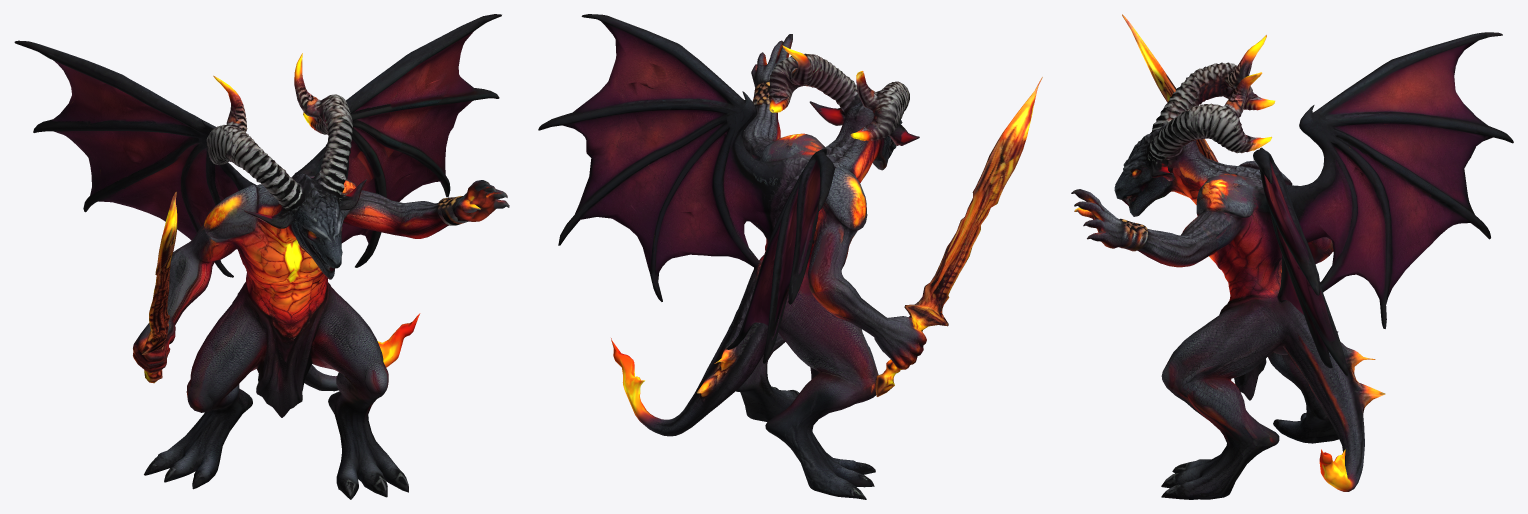
File: molgroth.glb
3 views of the same model, side by side, from view 1: azimuth 30°, elevation 25°; view 2: azimuth 150°, elevation 25°; view 3: azimuth 270°, elevation 25° (orthographic). The views are drawn at different scales.
Size of the model in its own units: 1.91 by 1.8 by 1.78.
1 material, 1 textured.
